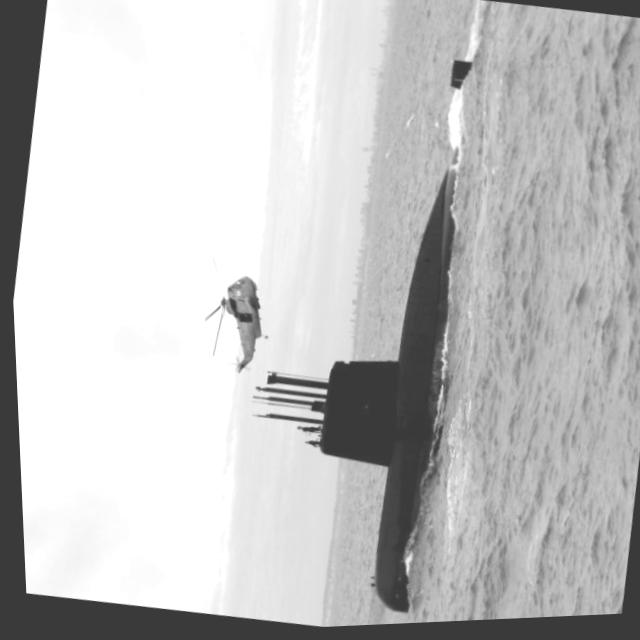helikopter: (159, 241, 295, 399)
